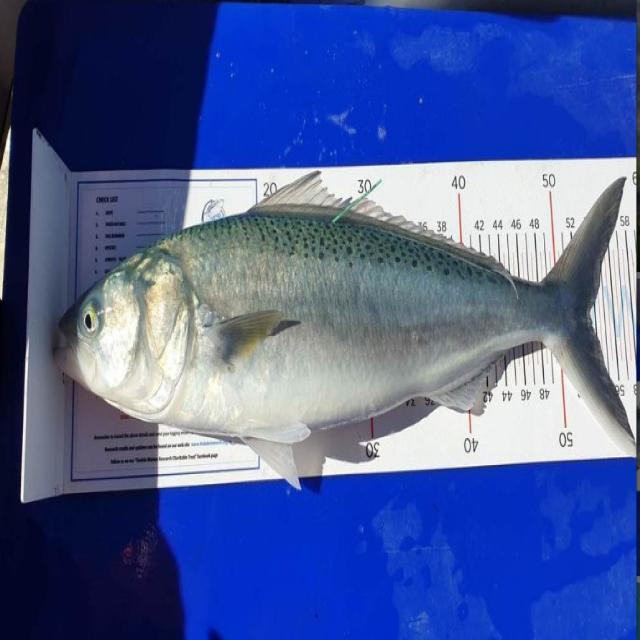Australian Salmon: (41, 141, 640, 508)
